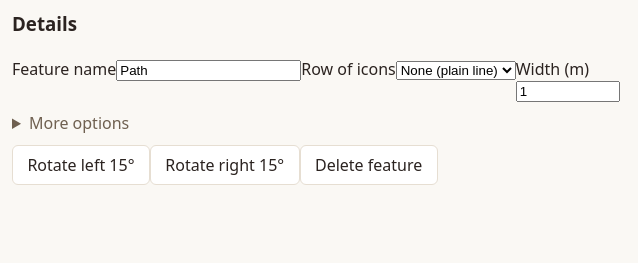
FeatureProperties › offers a width in metres for a path, and saves it
Replace the text in the field labelled "Width (m)" with "4" at (568, 91), box [516,80,620,102]
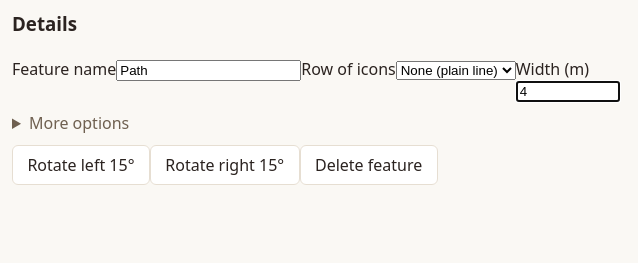
Clear the field labelled "Width (m)" at (568, 91), box [516,80,620,102]
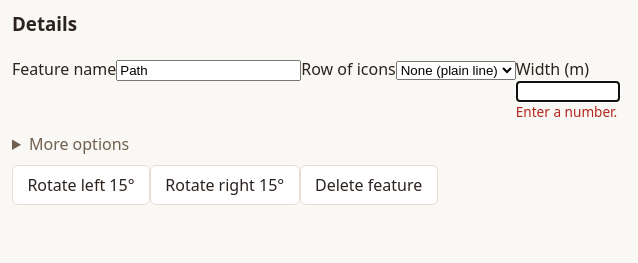
Type keys "900"
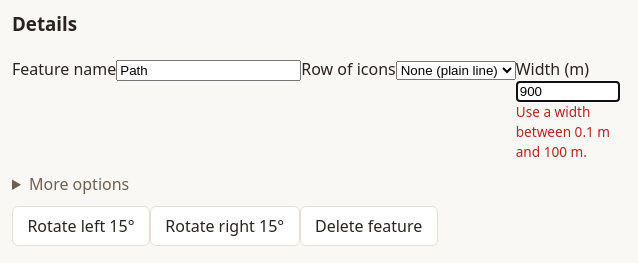
Now the message shows "between", box [516,102,610,161]
